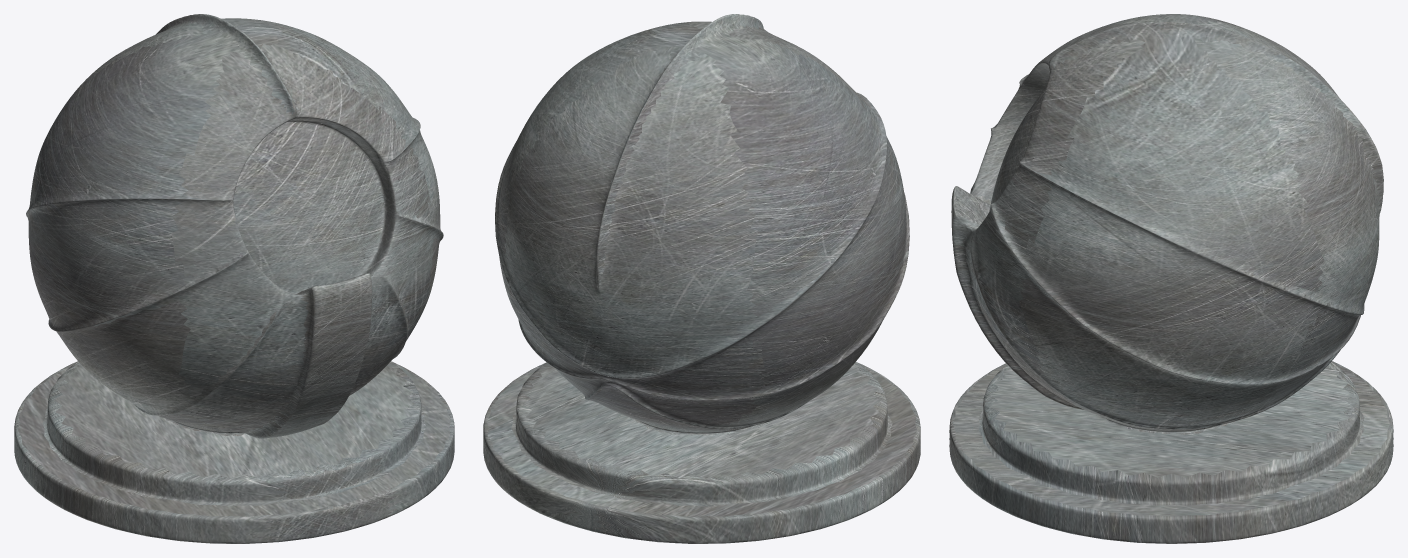
File: Sphere_Scratched.fbx
3 renders of one model, left to right at view 1: azimuth 30°, elevation 25°; view 2: azimuth 150°, elevation 25°; view 3: azimuth 270°, elevation 25°, orthographic.
Parts seen in each view (by area): view 1: Cylinder.002; view 2: Cylinder.002; view 3: Cylinder.002.
Part boxes in pixels (x1,y1,x2,y2): Cylinder.002: [14, 14, 454, 543]; Cylinder.002: [483, 14, 920, 543]; Cylinder.002: [949, 14, 1393, 543].
Size of the model in its own units: 1.97 by 2.1 by 1.97.
Materials: 1 (1 with a texture image).
